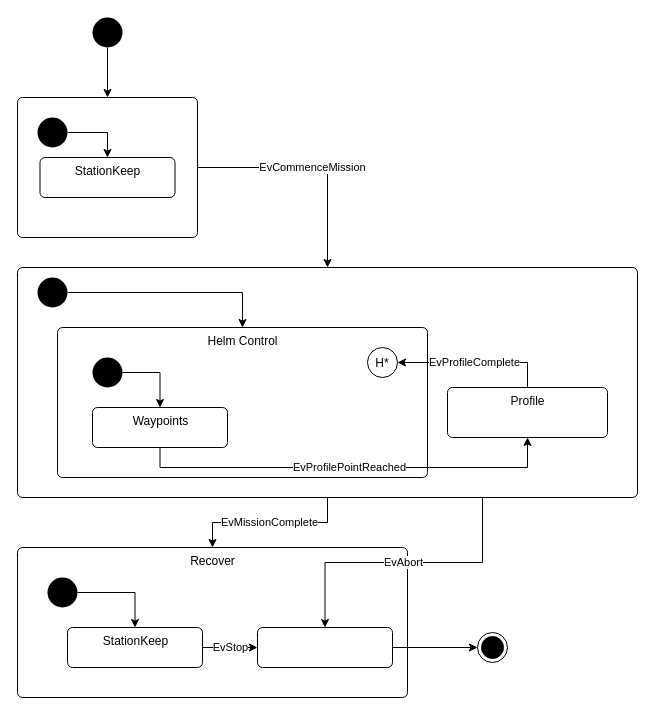
Some shapes in this 655 by 715 pixel diagram are drawn without their labels. The shapes that lost their labels are listed below. From the top down, each one's box as (x1, y1, x2, y2) in pixels, then its label:
(16, 96, 198, 238): Launch
(16, 266, 638, 498): Underway
(256, 626, 392, 668): Stopped
